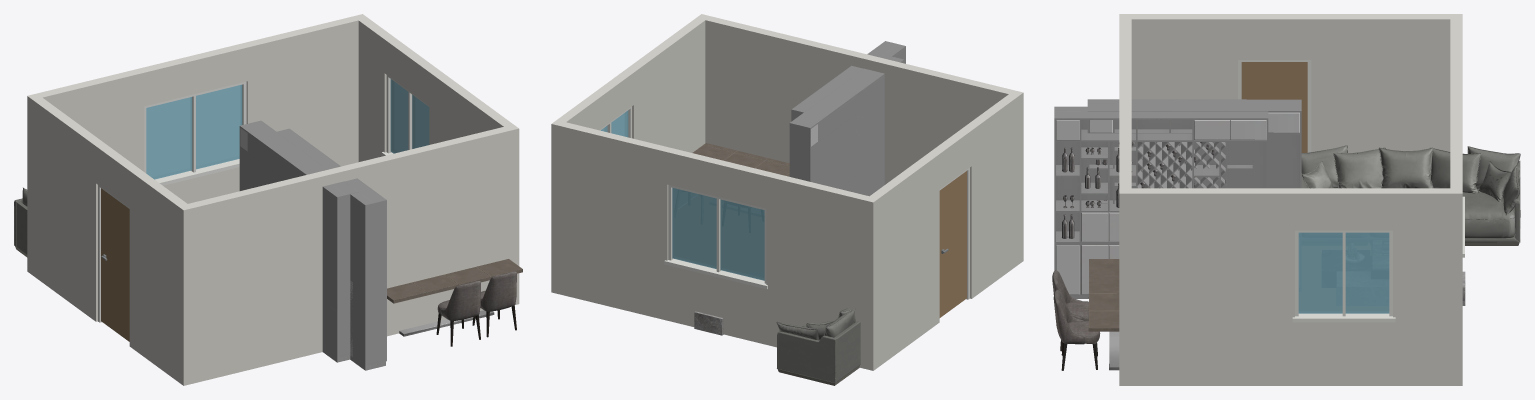
The model's file is instructscene.glb.
The picture shows the model from 3 angles, left to right: view 1: azimuth 30°, elevation 25°; view 2: azimuth 150°, elevation 25°; view 3: azimuth 270°, elevation 25°; orthographic projection. The views are drawn at different scales.
Parts seen in each view (by area): view 1: wall|scenesmith_093__R00|0, wall|scenesmith_093__R00|2, wall|scenesmith_093__R00|1, raw_model.005, wall|scenesmith_093__R00|3, wall|scenesmith_093__R00|1 Window 0 | glazing, wall|scenesmith_093__R00|2 Door 0 | wood leaf, raw_model, raw_model.001, wall|scenesmith_093__R00|3 Window 0 | glazing, wall|scenesmith_093__R00|1 Window 0 | jamb, raw_model.008 (+2 smaller); view 2: wall|scenesmith_093__R00|1, wall|scenesmith_093__R00|2, wall|scenesmith_093__R00|0, wall|scenesmith_093__R00|3, raw_model.005, wall|scenesmith_093__R00|1 Window 0 | glazing, raw_model.008, wall|scenesmith_093__R00|2 Door 0 | wood leaf, wall|scenesmith_093__R00|1 Window 0 | jamb, raw_model.001, raw_model.006, wall|scenesmith_093__R00|2 Door 0 | jamb; view 3: wall|scenesmith_093__R00|3, wall|scenesmith_093__R00|2, raw_model.005, raw_model.008, wall|scenesmith_093__R00|3 Window 0 | glazing, wall|scenesmith_093__R00|0, wall|scenesmith_093__R00|1, wall|scenesmith_093__R00|2 Door 0 | wood leaf, raw_model.001, wall|scenesmith_093__R00|3 Window 0 | jamb, raw_model, wall|scenesmith_093__R00|2 Door 0 | jamb.
Boxes of the visible parts, x1,y1,x2,y2 form: wall|scenesmith_093__R00|0: (183,124,518,385); wall|scenesmith_093__R00|2: (27,93,193,385); wall|scenesmith_093__R00|1: (37,16,358,203); raw_model.005: (239,120,386,370); wall|scenesmith_093__R00|3: (353,14,519,304); wall|scenesmith_093__R00|1 Window 0 | glazing: (146,84,242,179); wall|scenesmith_093__R00|2 Door 0 | wood leaf: (101,188,129,341); raw_model: (436,271,516,346); raw_model.001: (387,259,522,336); wall|scenesmith_093__R00|3 Window 0 | glazing: (390,79,429,153); wall|scenesmith_093__R00|1 Window 0 | jamb: (144,81,246,185); raw_model.008: (14,187,27,257); wall|scenesmith_093__R00|1: (560,122,868,368); wall|scenesmith_093__R00|2: (864,90,1023,370); wall|scenesmith_093__R00|0: (696,14,1013,184); wall|scenesmith_093__R00|3: (551,15,707,294); raw_model.005: (789,41,905,196); wall|scenesmith_093__R00|1 Window 0 | glazing: (672,188,764,280); raw_model.008: (776,308,860,385); wall|scenesmith_093__R00|2 Door 0 | wood leaf: (939,171,966,317); wall|scenesmith_093__R00|1 Window 0 | jamb: (664,185,767,289); raw_model.001: (692,143,789,176); raw_model.006: (694,311,723,335); wall|scenesmith_093__R00|2 Door 0 | jamb: (939,167,969,299); wall|scenesmith_093__R00|3: (1120,188,1462,385); wall|scenesmith_093__R00|2: (1119,14,1462,153); raw_model.005: (1054,99,1301,298); raw_model.008: (1301,145,1520,245); wall|scenesmith_093__R00|3 Window 0 | glazing: (1298,232,1389,313); wall|scenesmith_093__R00|0: (1119,19,1131,385); wall|scenesmith_093__R00|1: (1450,19,1462,385); wall|scenesmith_093__R00|2 Door 0 | wood leaf: (1241,62,1307,152); raw_model.001: (1088,259,1119,370); wall|scenesmith_093__R00|3 Window 0 | jamb: (1292,230,1395,322); raw_model: (1052,270,1100,370); wall|scenesmith_093__R00|2 Door 0 | jamb: (1238,60,1311,152).
Size of the model in its own units: 5.23 by 2.61 by 5.73.
14 materials, 8 textured.
